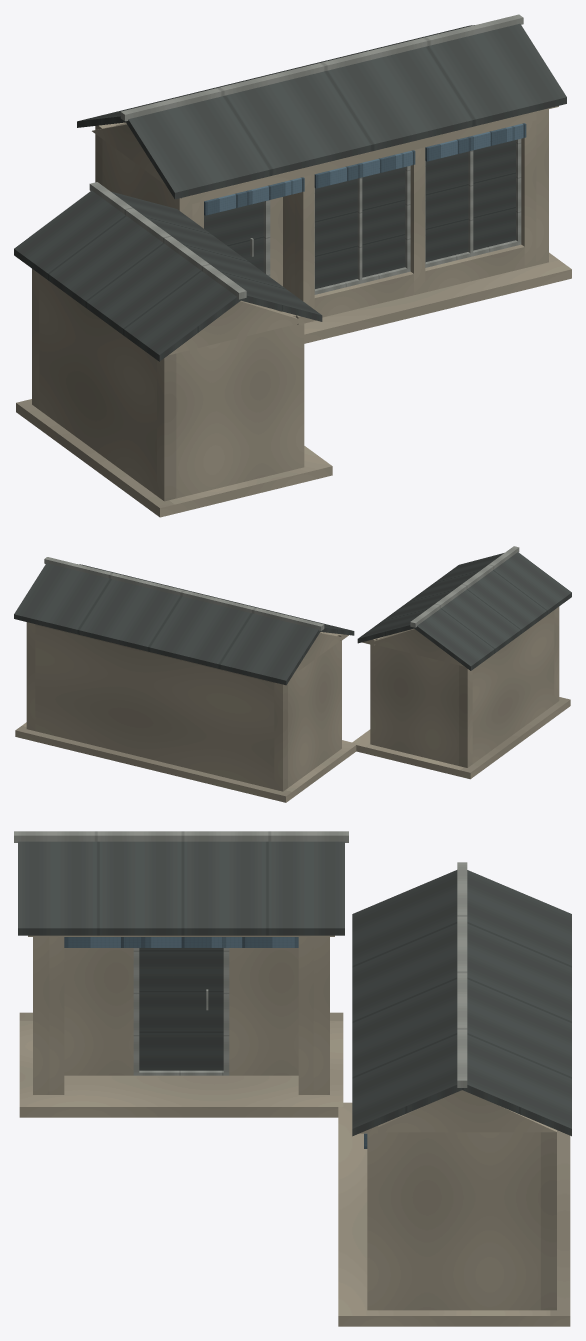
3 views of the same model, one above another, from view 1: azimuth 30°, elevation 25°; view 2: azimuth 150°, elevation 25°; view 3: azimuth 270°, elevation 25° (orthographic). The views are drawn at different scales.
Visible parts, largest first — view 1: bucharest; view 2: bucharest; view 3: bucharest.
Boxes of the visible parts, left/top/right/bottom form: bucharest: left=14, top=14, right=571, bottom=517; bucharest: left=14, top=546, right=571, bottom=802; bucharest: left=14, top=831, right=571, bottom=1326.
Size of the model in its own units: 7.93 by 3 by 6.1.
Materials: 1 (1 with a texture image).
